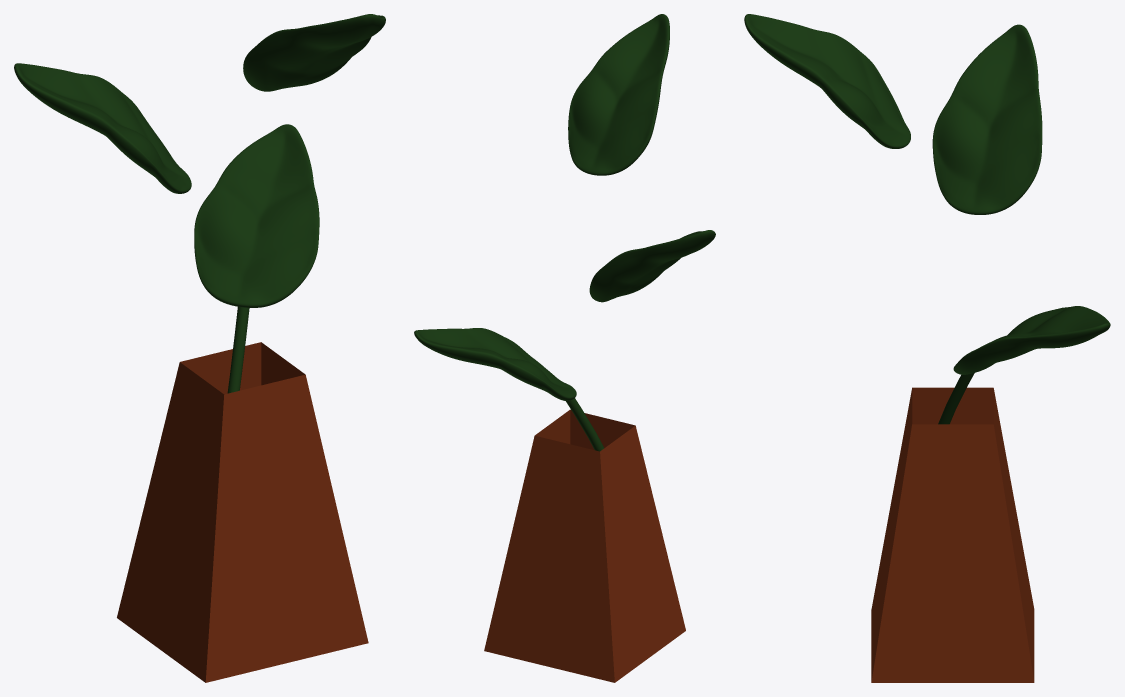
Rendered from PLANT 1.fbx.
3 views of the same model, side by side, from view 1: azimuth 30°, elevation 25°; view 2: azimuth 150°, elevation 25°; view 3: azimuth 270°, elevation 25° (orthographic). The views are drawn at different scales.
Parts seen in each view (by area): view 1: Pyramid001, ZBrush_defualt_group002, ZBrush_defualt_group001, ZBrush_defualt_group, Line003; view 2: Pyramid001, ZBrush_defualt_group, ZBrush_defualt_group002, ZBrush_defualt_group001, Line003; view 3: Pyramid001, ZBrush_defualt_group001, ZBrush_defualt_group, ZBrush_defualt_group002, Line003.
Boxes of the visible parts, left/top/right/bottom form: Pyramid001: left=117, top=342, right=368, bottom=682; ZBrush_defualt_group002: left=194, top=124, right=319, bottom=307; ZBrush_defualt_group001: left=14, top=63, right=191, bottom=193; ZBrush_defualt_group: left=243, top=14, right=385, bottom=91; Line003: left=227, top=306, right=249, bottom=393; Pyramid001: left=484, top=409, right=685, bottom=682; ZBrush_defualt_group: left=568, top=14, right=669, bottom=175; ZBrush_defualt_group002: left=414, top=328, right=576, bottom=400; ZBrush_defualt_group001: left=589, top=230, right=715, bottom=302; Line003: left=566, top=398, right=604, bottom=451; Pyramid001: left=871, top=387, right=1034, bottom=682; ZBrush_defualt_group001: left=932, top=24, right=1042, bottom=214; ZBrush_defualt_group: left=744, top=14, right=910, bottom=148; ZBrush_defualt_group002: left=953, top=306, right=1110, bottom=374; Line003: left=938, top=373, right=974, bottom=424.
Size of the model in its own units: 3.15 by 6.41 by 3.34.
